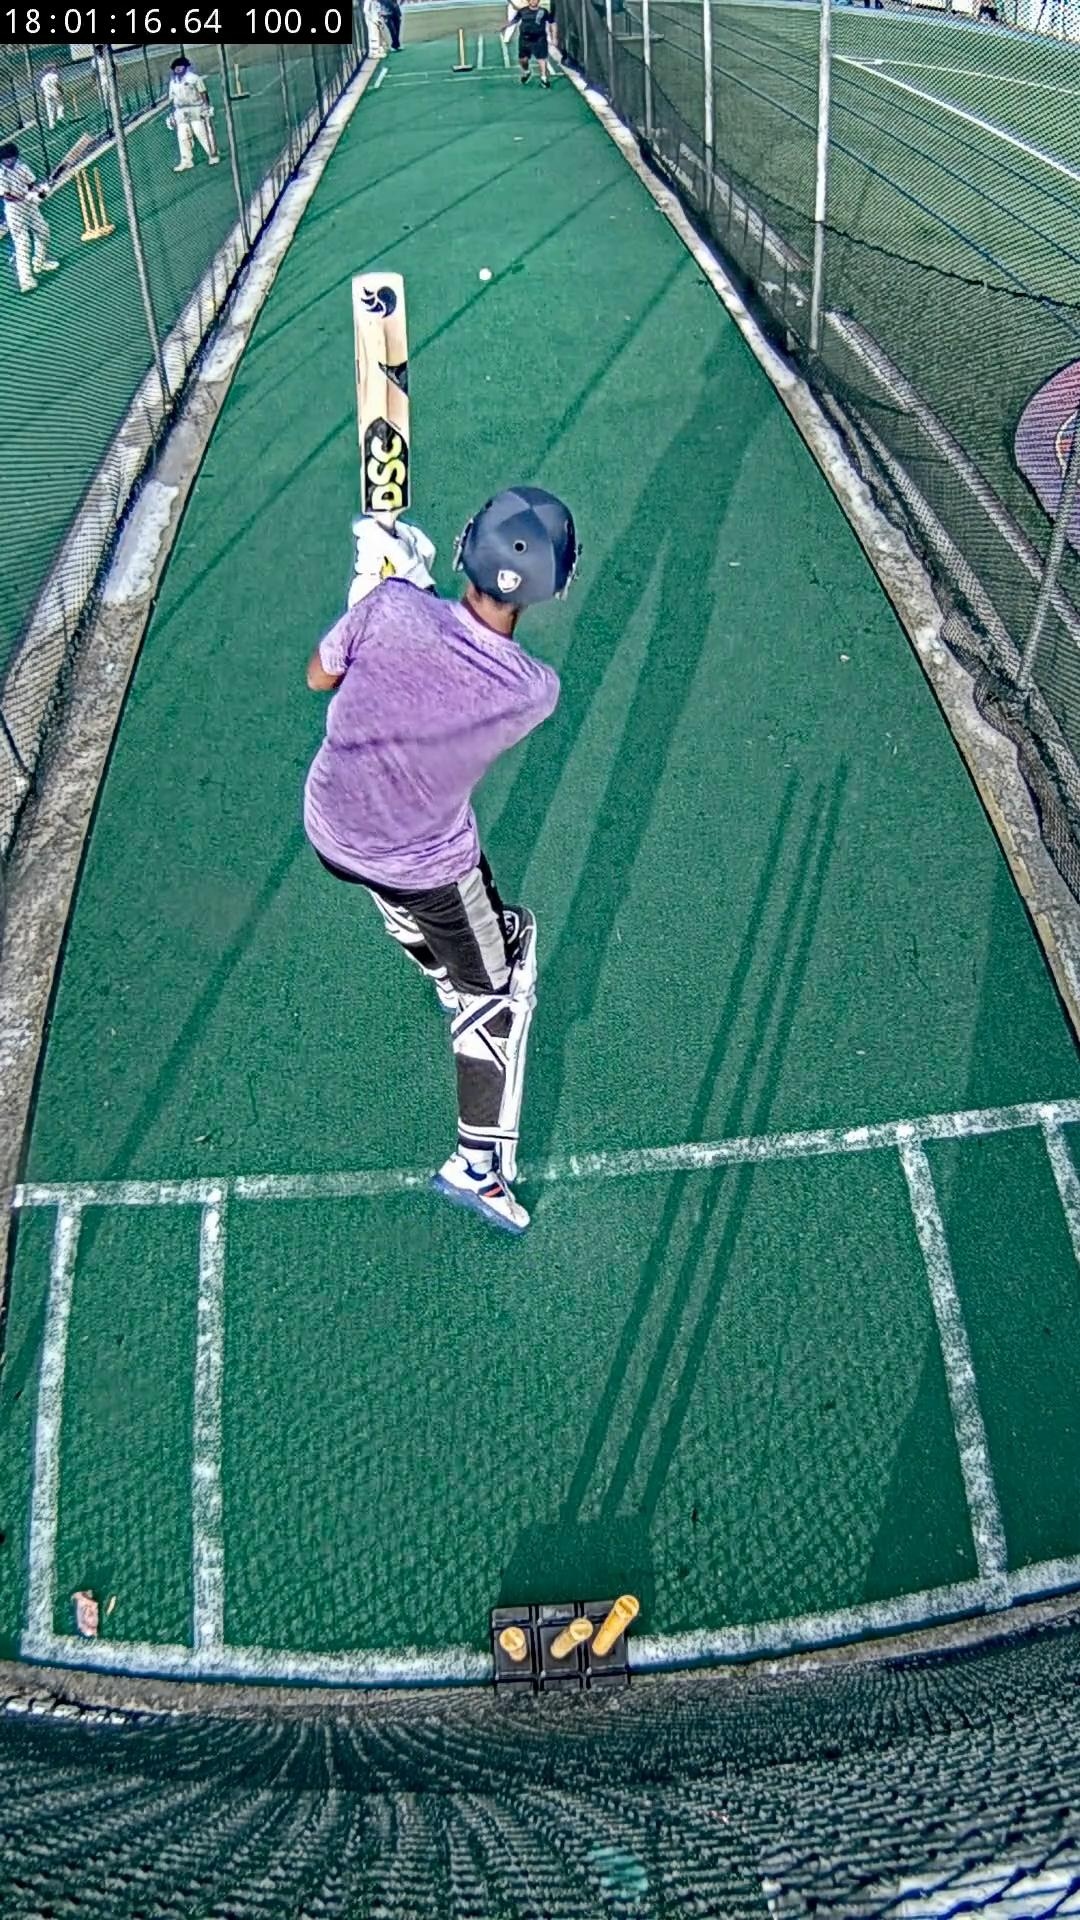ball: (480, 266, 492, 280)
bat: (352, 274, 409, 529)
gloves: (348, 514, 435, 605)
helmet: (454, 488, 578, 604)
pads: (495, 907, 537, 1182)
stumps: (492, 1594, 641, 1692)
